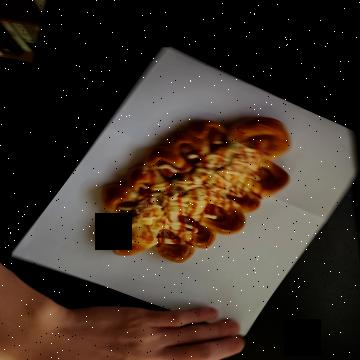pizza_bread: (124, 61, 271, 252)
